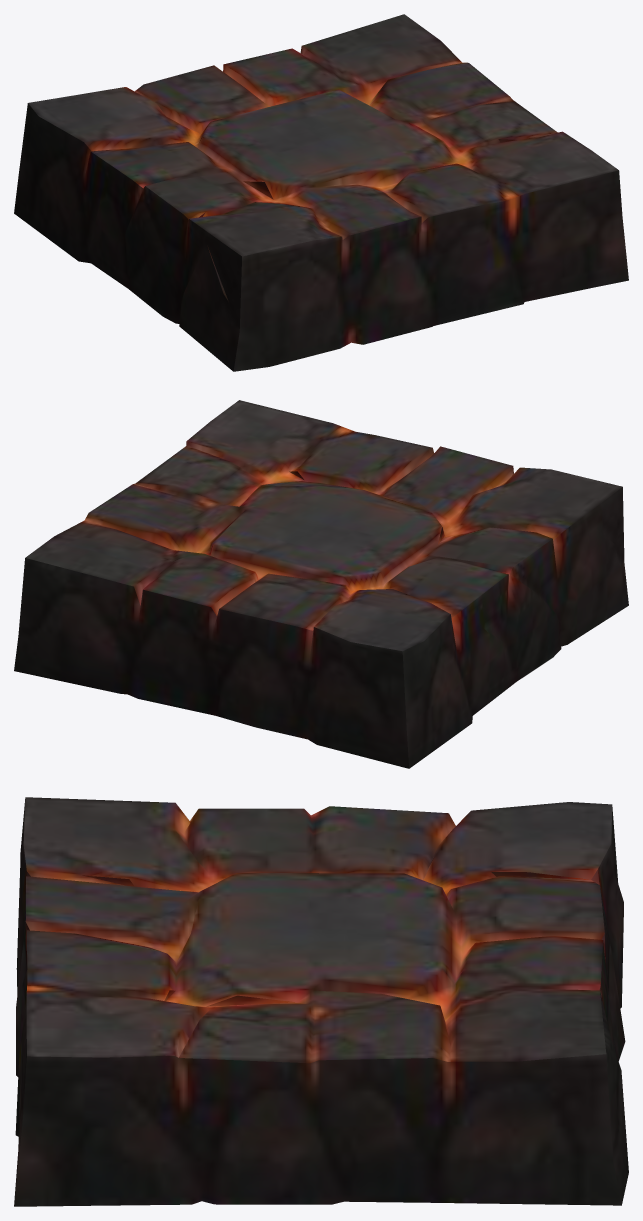
Rendered from b_braises_sol_1.glb.
3 views of the same model, one above another, from view 1: azimuth 30°, elevation 25°; view 2: azimuth 150°, elevation 25°; view 3: azimuth 270°, elevation 25° (orthographic). The views are drawn at different scales.
Parts seen in each view (by area): view 1: geometry_0; view 2: geometry_0; view 3: geometry_0.
Part boxes in pixels (x1,y1,x2,y2): geometry_0: [14, 14, 628, 371]; geometry_0: [14, 400, 628, 768]; geometry_0: [14, 797, 628, 1206].
Size of the model in its own units: 1 by 0.2862 by 1.
Materials: 1 (1 with a texture image).
